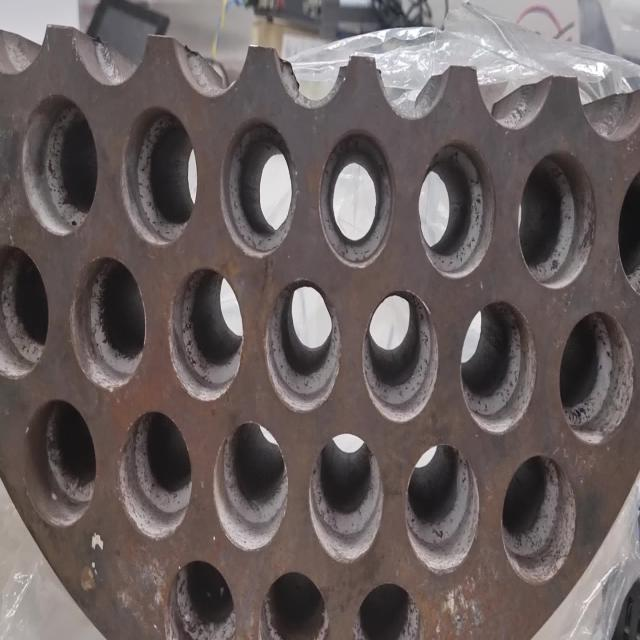Hole: (120, 104, 198, 247), (21, 93, 98, 236), (518, 150, 596, 290), (418, 139, 495, 279), (263, 276, 342, 412), (220, 118, 297, 257), (318, 128, 394, 268), (70, 254, 146, 392), (167, 266, 244, 402), (362, 288, 439, 424), (459, 300, 537, 434), (559, 310, 635, 444), (501, 453, 577, 585), (213, 420, 288, 552), (405, 442, 480, 574), (308, 433, 384, 563), (118, 409, 192, 541), (24, 396, 96, 526), (0, 244, 49, 380), (165, 558, 237, 640), (260, 570, 330, 640), (354, 581, 423, 639), (616, 162, 640, 300)
